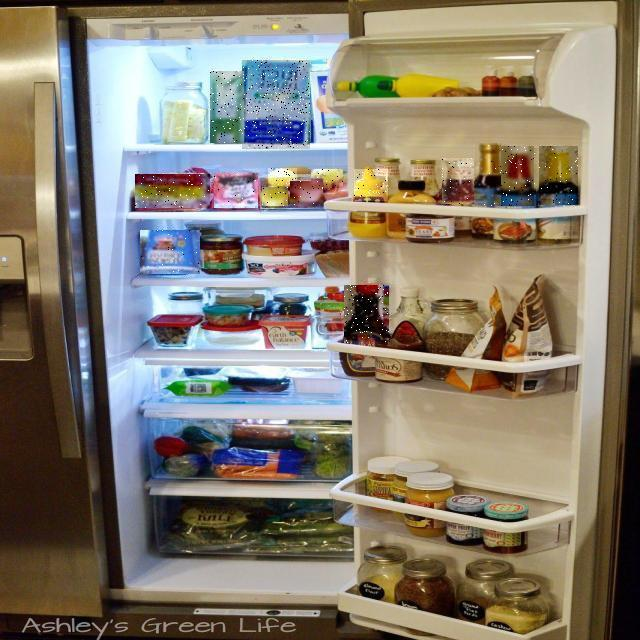Apple: (290, 182, 323, 206)
Bread: (135, 175, 210, 209), (214, 173, 258, 208)
Lemon: (311, 170, 343, 188), (268, 168, 297, 186), (262, 187, 288, 206)
Milk: (242, 60, 310, 149), (210, 71, 244, 143)
Sauce: (344, 286, 389, 344), (539, 146, 578, 205), (502, 146, 536, 206), (475, 143, 501, 206), (443, 159, 475, 205), (354, 169, 388, 201)
Yoghurt: (140, 230, 200, 274)
